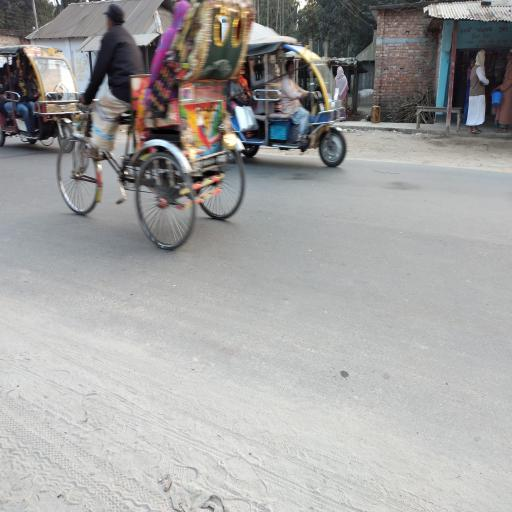auto rickshaw: (214, 38, 351, 178), (1, 46, 81, 159)
rickshaw: (55, 1, 255, 256)
